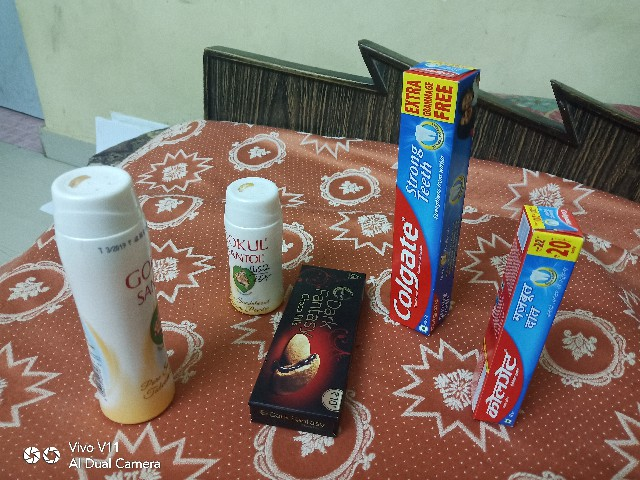colgatetoothpaste big: (386, 59, 477, 346)
colgatetoothpaste small: (472, 204, 604, 455)
darkfantasy small: (250, 256, 370, 449)
gokulsantol big: (37, 154, 179, 430)
gokulsantol small: (210, 161, 283, 313)
